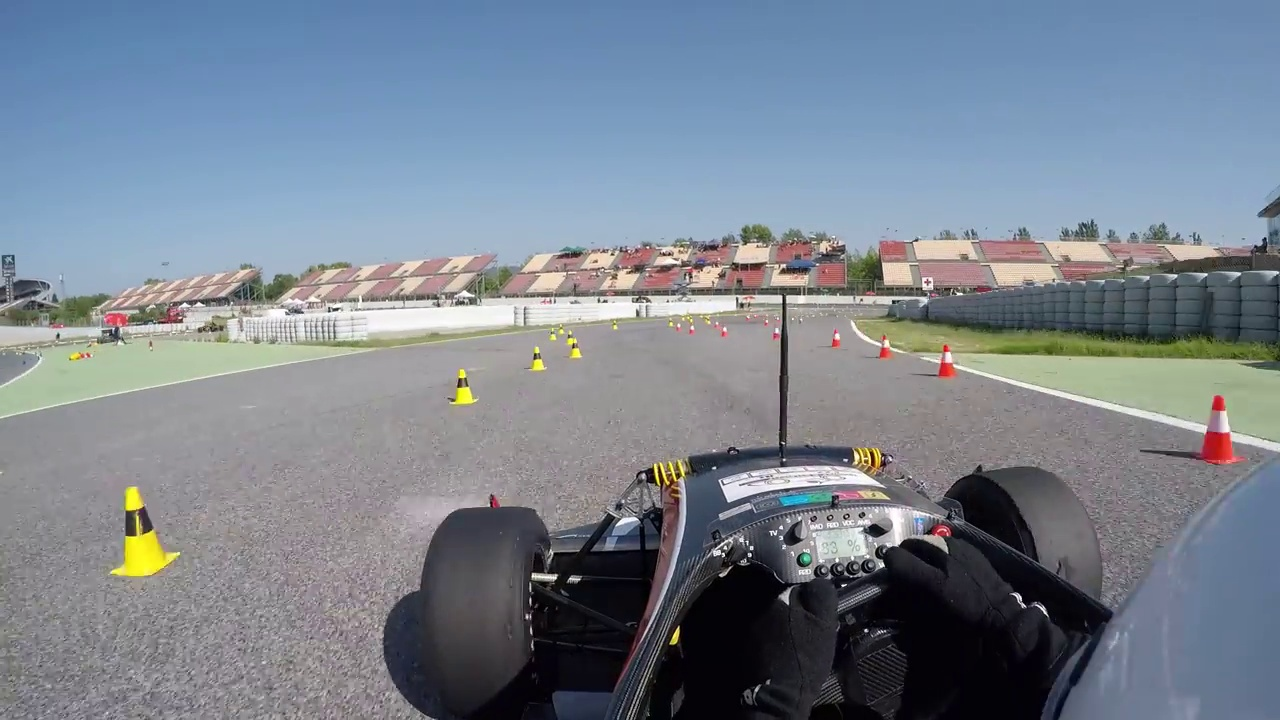Cone: (109, 485, 171, 580), (1193, 395, 1241, 463), (452, 366, 479, 406), (938, 343, 958, 379)
